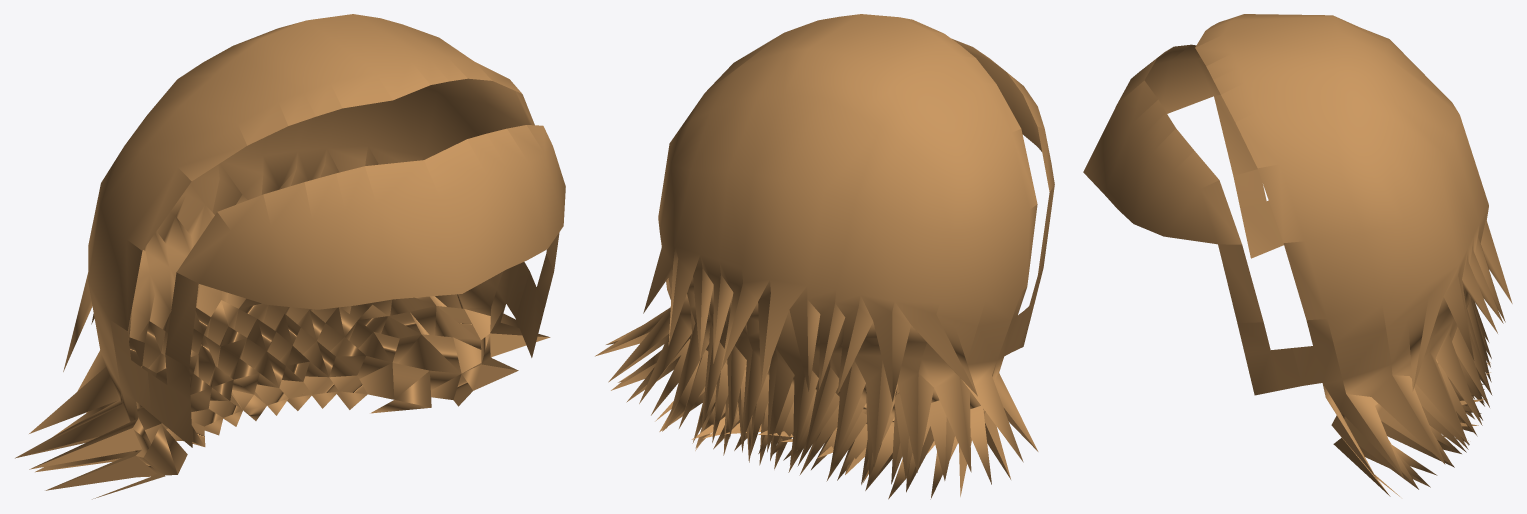
File: Fire_Skalp_Sanic.fbx
The picture shows the model from 3 angles, left to right: view 1: azimuth 30°, elevation 25°; view 2: azimuth 150°, elevation 25°; view 3: azimuth 270°, elevation 25°; orthographic projection. The views are drawn at different scales.
Visible parts, largest first — view 1: Character_Model_RAW_UV_unfold3d:polySurface6; view 2: Character_Model_RAW_UV_unfold3d:polySurface6; view 3: Character_Model_RAW_UV_unfold3d:polySurface6.
Part boxes in pixels (x1,y1,x2,y2): Character_Model_RAW_UV_unfold3d:polySurface6: (15,14,565,499); Character_Model_RAW_UV_unfold3d:polySurface6: (595,14,1054,499); Character_Model_RAW_UV_unfold3d:polySurface6: (1083,14,1512,496).
Size of the model in its own units: 0.8262 by 0.7059 by 0.6946.
